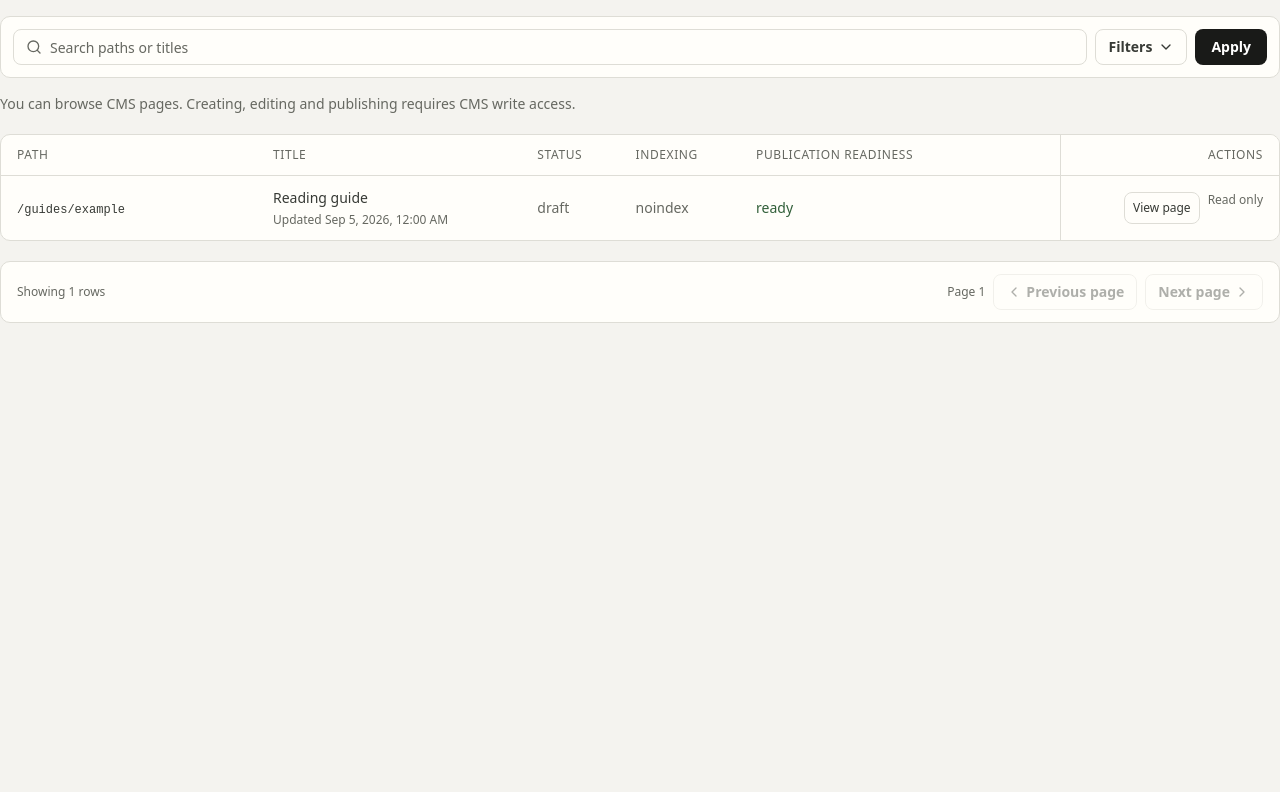
Test: CMS operating permissions and article fields › abandons a failed replacement article read when the visible article is closed
Click the button "View page": [1162, 208] box left=1124, top=192, right=1200, bottom=224
(page scrolled)
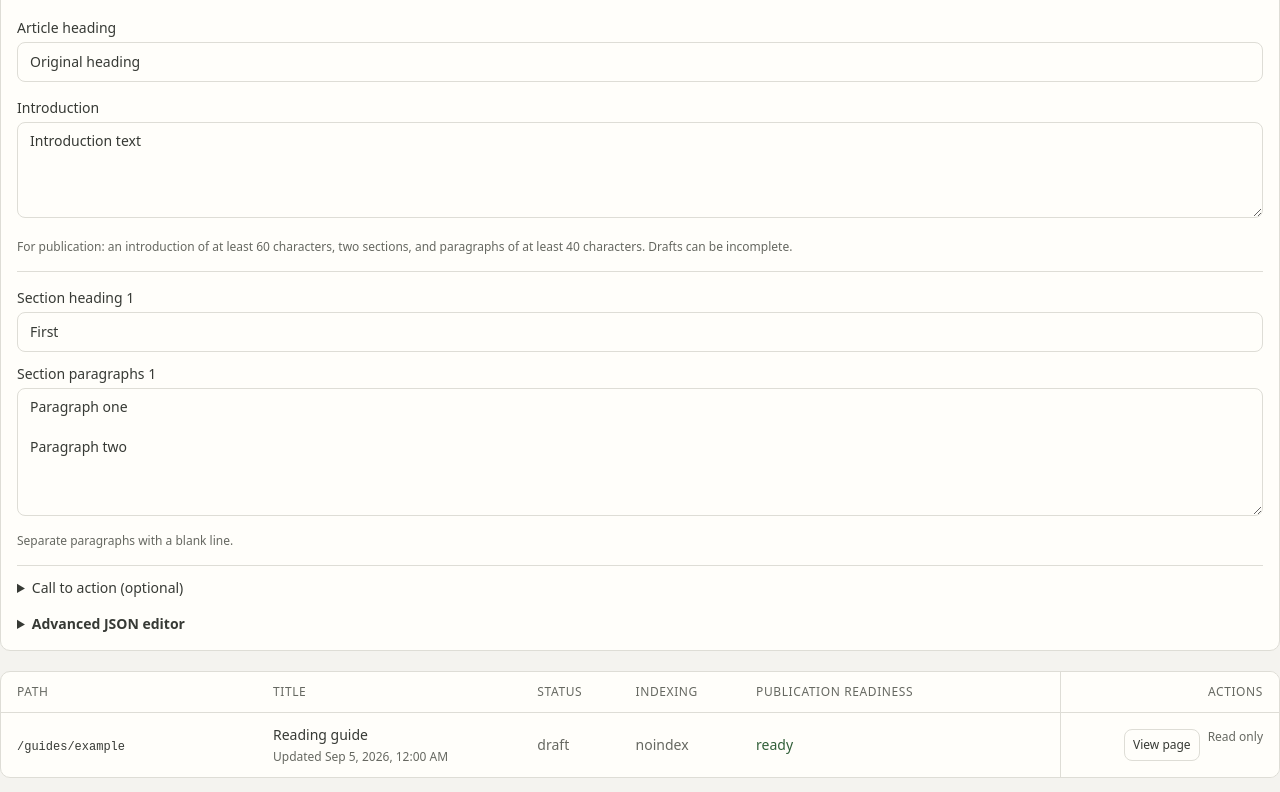
Click the button "View page": [1162, 745] box left=1124, top=729, right=1200, bottom=761
(page scrolled)
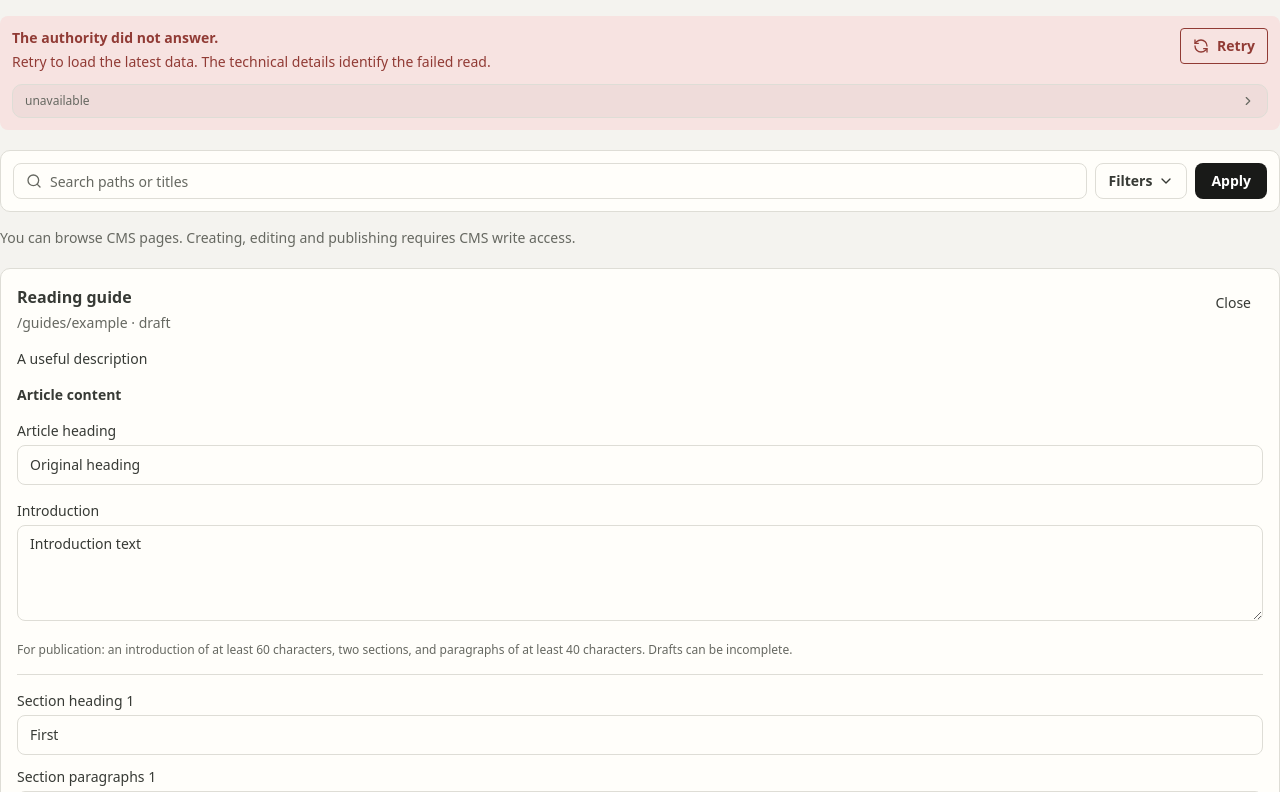
Check: the message is shown, box left=0, top=16, right=1279, bottom=130
Click the button "Close": [1233, 303] box left=1204, top=285, right=1263, bottom=321
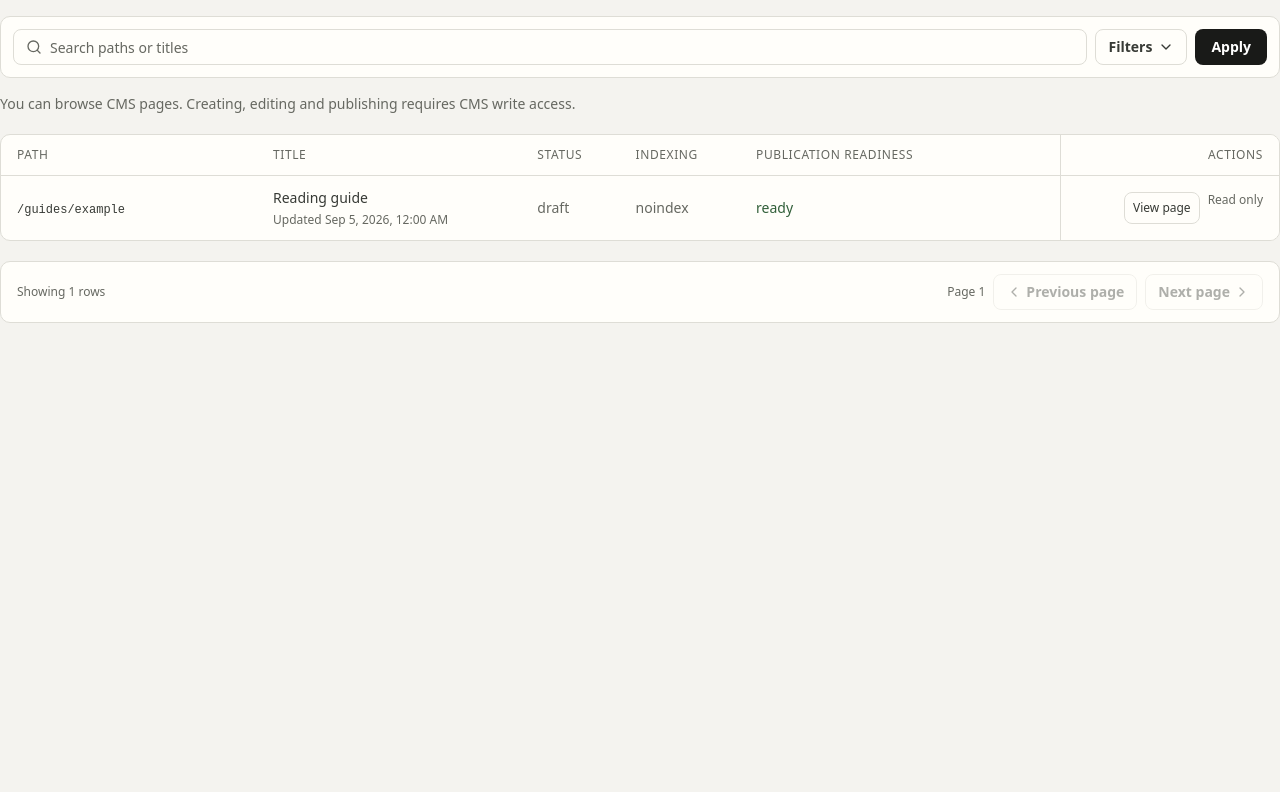
Check: the message is gone
